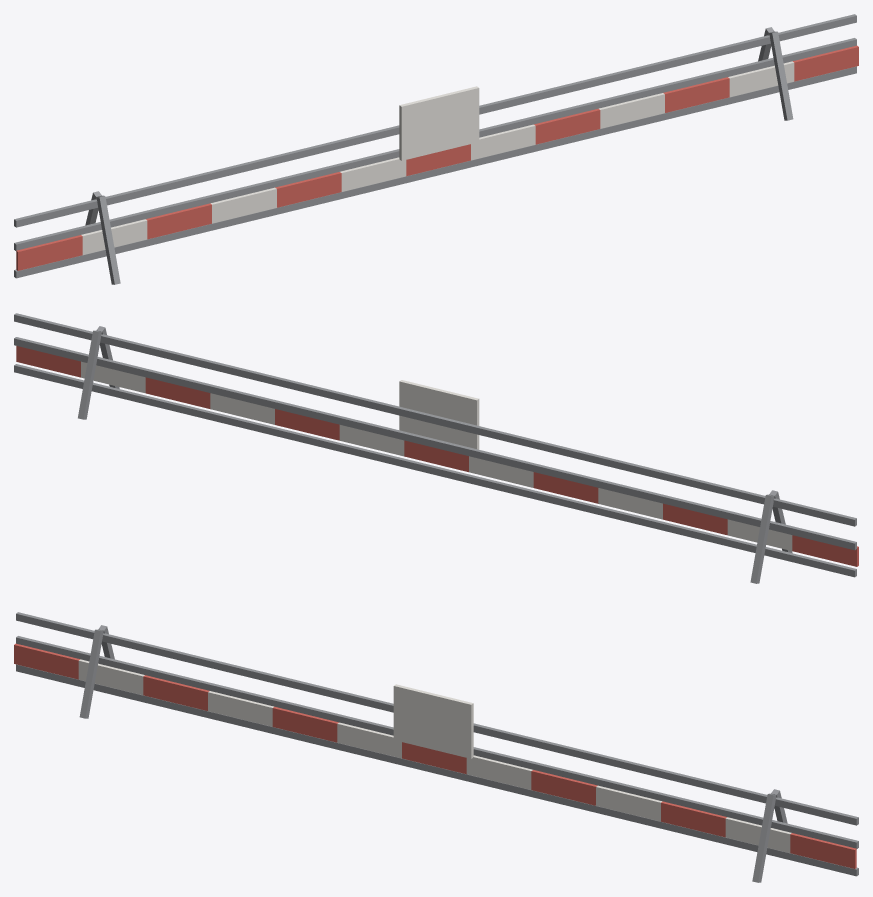
The model's file is barrier.glb.
3 views of the same model, one above another, from view 1: azimuth 30°, elevation 25°; view 2: azimuth 150°, elevation 25°; view 3: azimuth 330°, elevation 25° (orthographic).
Parts seen in each view (by area): view 1: barrier; view 2: barrier; view 3: barrier.
Part boxes in pixels (box(x1,y1,x2,y2)): barrier: box(14, 14, 858, 284); barrier: box(14, 313, 858, 583); barrier: box(14, 612, 858, 882).
Size of the model in its own units: 13 by 1.43 by 0.995.
